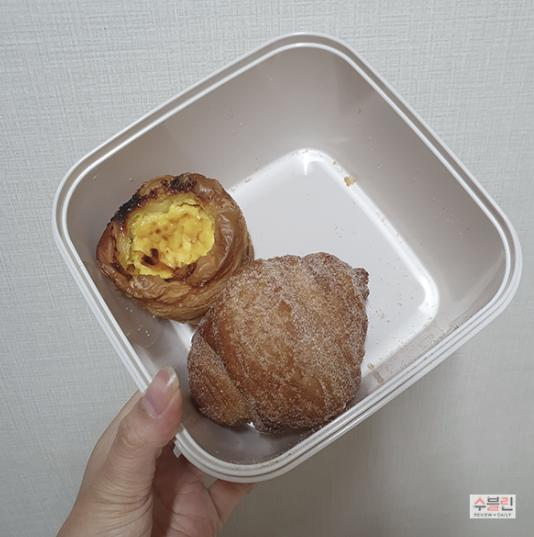Lunch Box: (54, 34, 520, 481)
